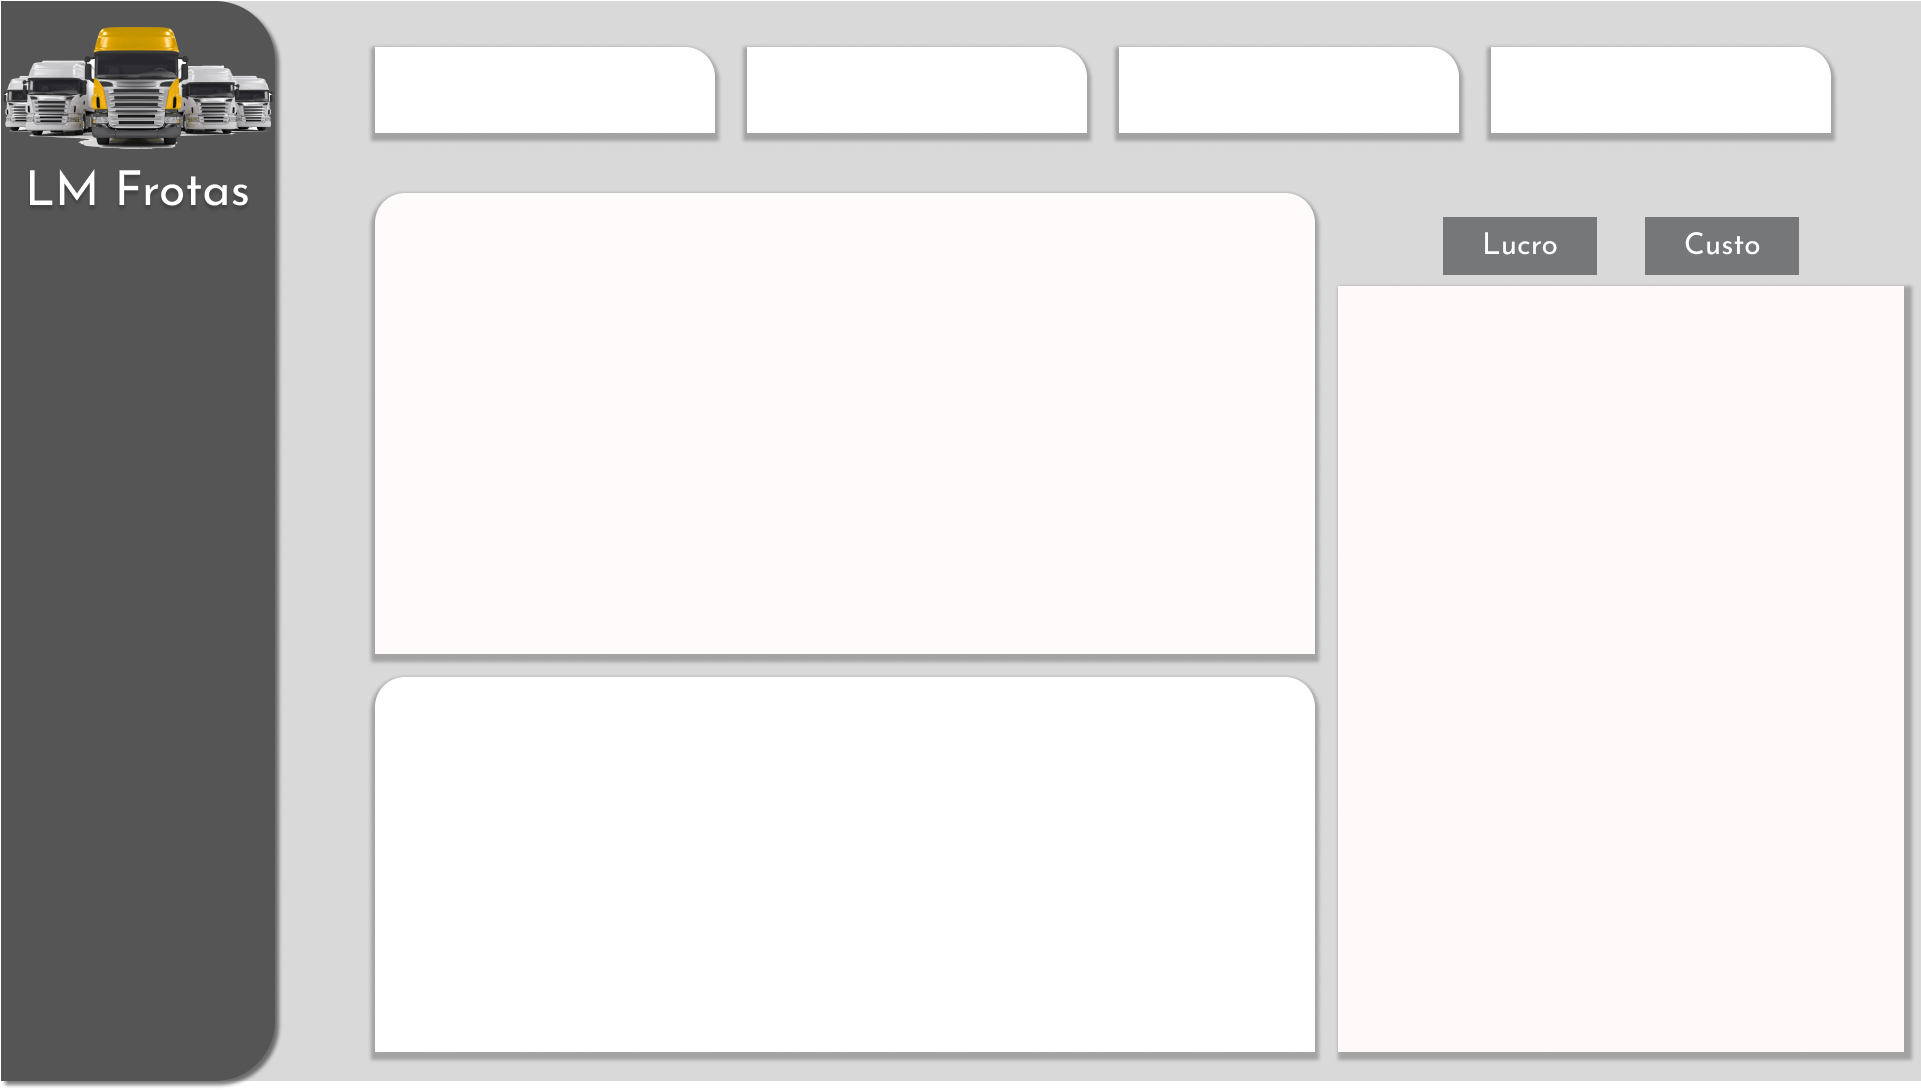

What the dashboard file says about the page in this screenshot:
{"tool":"powerbi","page":{"name":"Página 1","canvas":[1280,720],"ordinal":0},"visuals":[{"type":"multiRowCard","title":"Receita","fields":{"Values":["_medidas.Receita_total"]},"box":[298.2,32.2,177.9,66.9],"z":0},{"type":"multiRowCard","title":"Lucro","fields":{"Values":["_medidas.lucro"]},"box":[546.4,32.2,188,66.9],"z":2},{"type":"multiRowCard","title":"KM Rodados","fields":{"Values":["_medidas.KM Rodados"]},"box":[797.9,33,170.3,66.9],"z":3},{"type":"multiRowCard","title":"Qtd. Viagens","fields":{"Values":["_medidas.Qtd viagens"]},"box":[1039.3,32.2,216.8,66.1],"z":4},{"type":"columnChart","title":"Viagens no Mês","fields":{"Y":["_medidas.Qtd viagens"],"Category":["Frete.Data Pedido.Variation.Hierarquia de datas.Mês"]},"box":[256.7,130.4,614.1,301.6],"z":5},{"type":"gauge","fields":{"Y":["_medidas.% no prazo"]},"box":[256.7,454.9,614.1,239.7],"z":8},{"type":"pivotTable","fields":{"Values":["_medidas.Receita_total","_medidas.Qtd viagens"],"Rows":["Frete.Marca","Frete.Tipo Veículo"]},"box":[890.3,191.4,379.5,503.2],"z":9},{"type":"actionButton","box":[960.6,140.6,105,39.8],"z":11},{"type":"actionButton","box":[1096.9,140.6,100.8,39.8],"z":12},{"type":"slicer","fields":{"Values":["Frete.Data Pedido.Variation.Hierarquia de datas.Ano","Frete.Data Pedido.Variation.Hierarquia de datas.Mês"]},"box":[0,180.4,182.1,461.6],"z":14},{"type":"image","box":[249,34.7,51.7,49.1],"z":15},{"type":"image","box":[497.2,35.6,51.7,50.8],"z":16},{"type":"image","box":[747.1,34.7,50.8,49.1],"z":17},{"type":"image","box":[996.1,36.4,50.8,49.1],"z":18}]}

Visuals, with their boxes in screenshot pixels (x1, y1, x2, y2), scaled from the page's 1280x720 canvas onto the 1921x1090 screenshot:
"Receita" multiRowCard: box=[448, 49, 715, 150]
"Lucro" multiRowCard: box=[820, 49, 1102, 150]
"KM Rodados" multiRowCard: box=[1197, 50, 1453, 151]
"Qtd. Viagens" multiRowCard: box=[1560, 49, 1885, 149]
"Viagens no Mês" columnChart: box=[385, 197, 1307, 654]
gauge - _medidas.% no prazo: box=[385, 689, 1307, 1052]
pivotTable - _medidas.Receita_total x _medidas.Qtd viagens: box=[1336, 290, 1906, 1052]
actionButton: box=[1442, 213, 1599, 273]
actionButton: box=[1646, 213, 1797, 273]
slicer - Frete.Data Pedido.Variation.Hierarquia de datas.Ano x Frete.Data Pedido.Variation.Hierarquia de datas.Mês: box=[0, 273, 273, 972]
image: box=[374, 53, 451, 127]
image: box=[746, 54, 824, 131]
image: box=[1121, 53, 1197, 127]
image: box=[1495, 55, 1571, 129]
